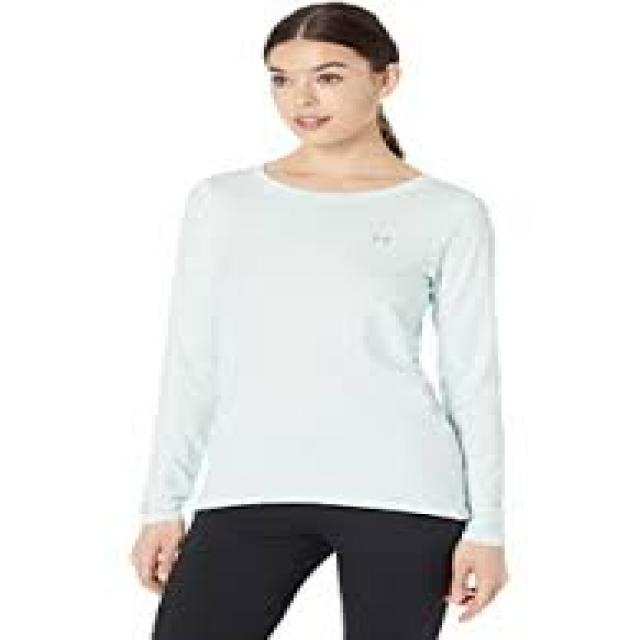plain: (136, 166, 514, 520)
